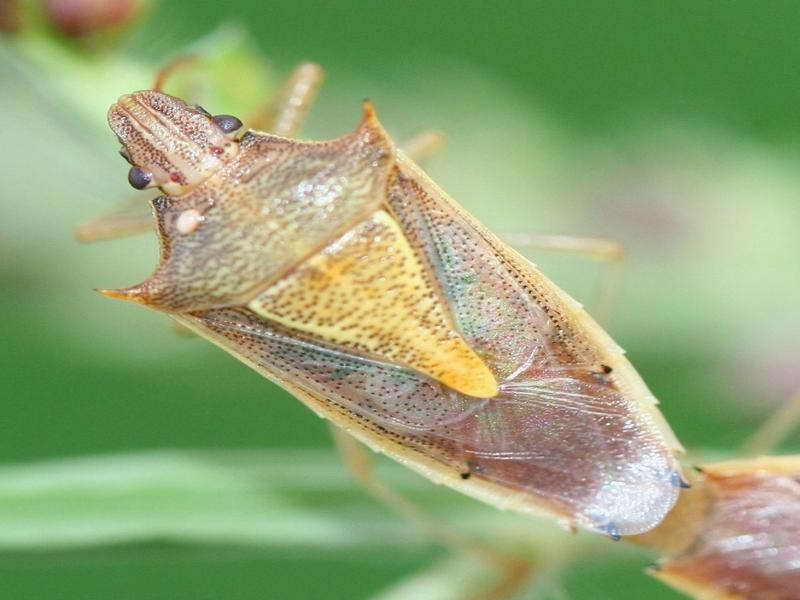Rice_earhead_bug: (102, 84, 696, 575)
